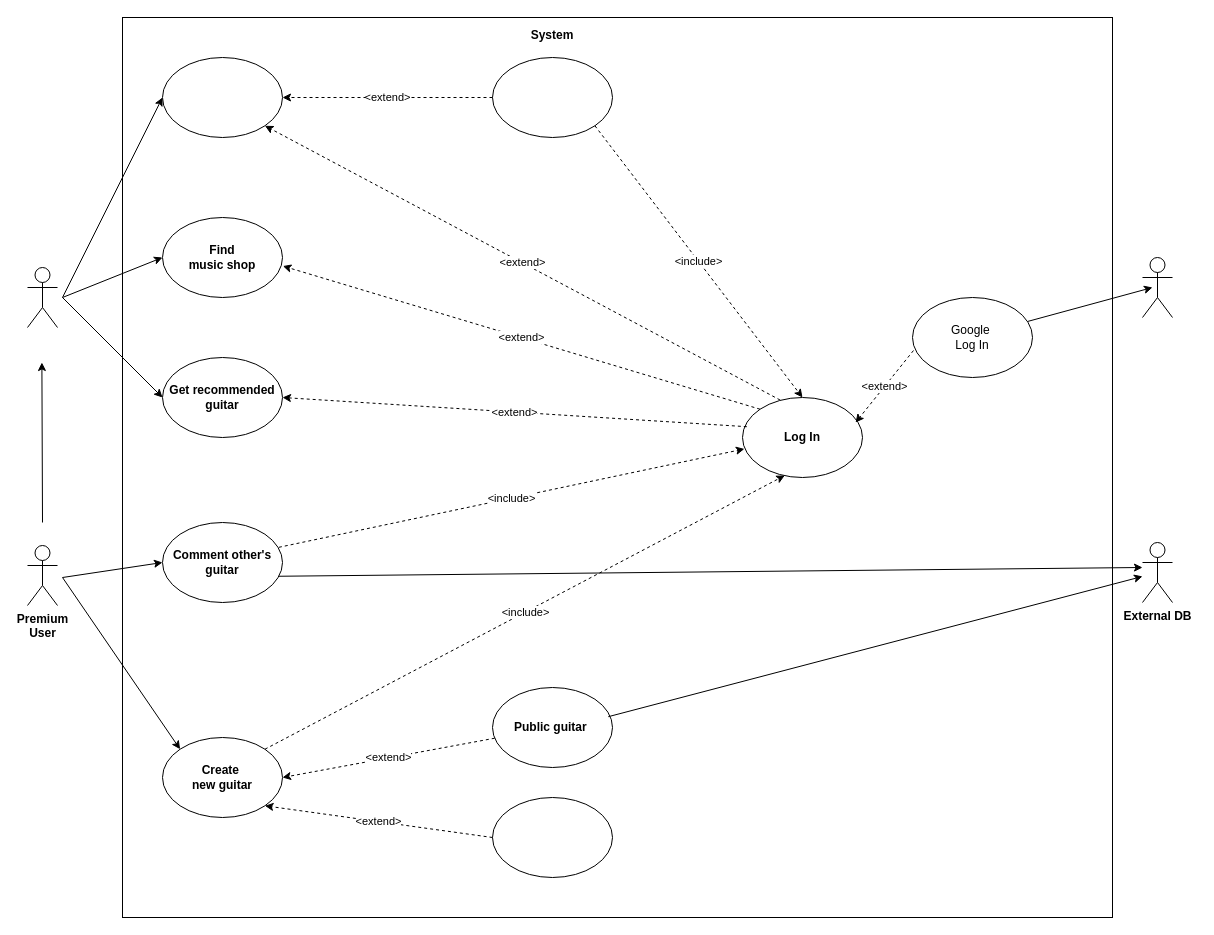
Some shapes in this 1214 by 935 pixel diagram are drawn without their labels. The centre of each missing label's shape, as x and y in pixels:
"Contact l iuther" belongs at (x=552, y=837).
"Find reccomended concerts" belongs at (x=222, y=97).
"Google Authanticator" belongs at (x=1157, y=287).
"Leave a rating" belongs at (x=552, y=97).
"User" belongs at (x=42, y=297).
